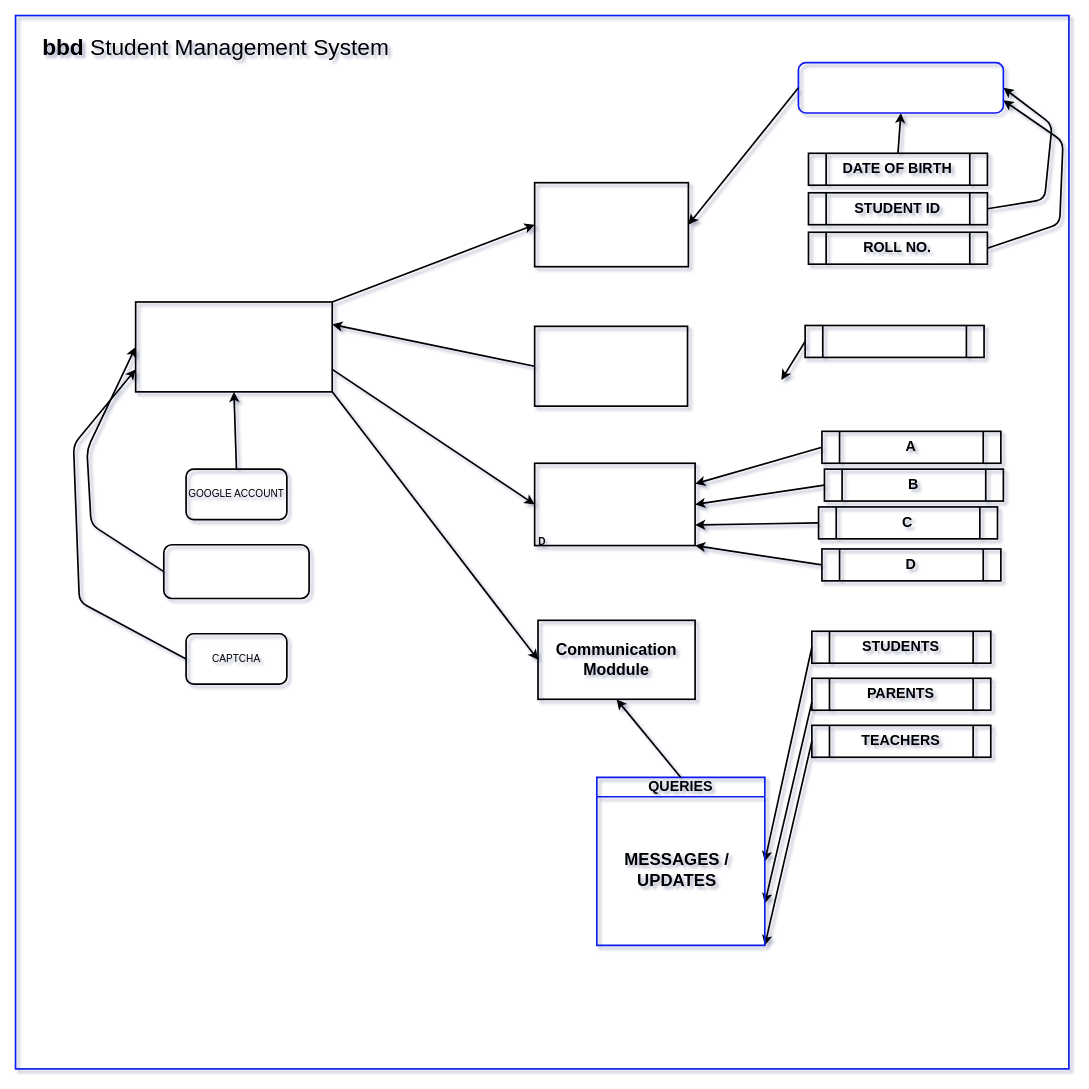
This 1089x1089 diagram has some shape labels left out. The centre of each missing label's shape, as x and y in pixels:
75% ATTENDENCE: the point at 894,341
Attendence Tracking: the point at 610,366
Grade Management: the point at 614,504
MICROSOFT/OUTLOOK: the point at 900,87
Student Authentication System: the point at 611,224
User Authentication: the point at 233,346
USER FINGERPRINT/PASSWORD: the point at 236,571
